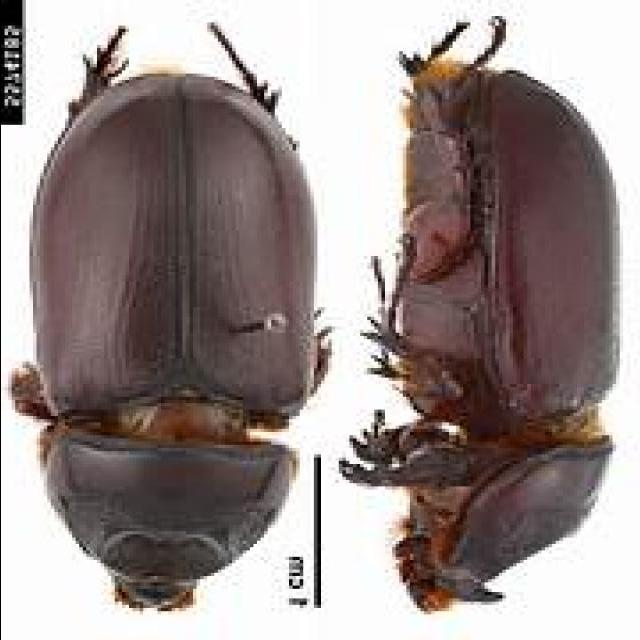Rhino-beetle: (22, 17, 330, 624), (357, 15, 625, 611)
